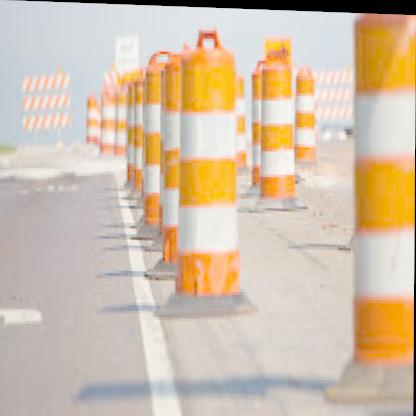obstacle: (175, 34, 239, 298), (258, 41, 294, 201)
